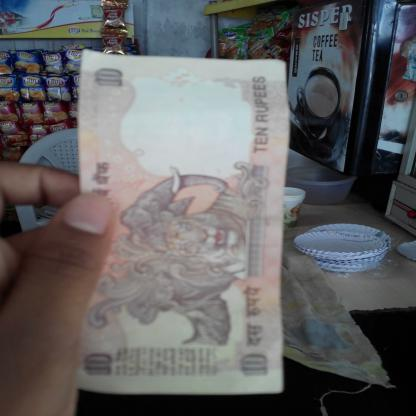Old10Back: (77, 47, 293, 396)
